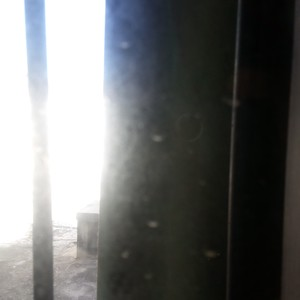out: (1, 1, 299, 300)
